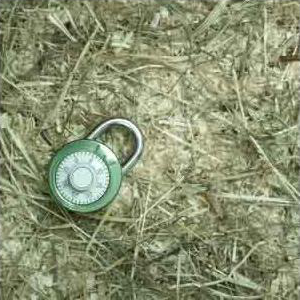lock: (46, 116, 144, 214)
